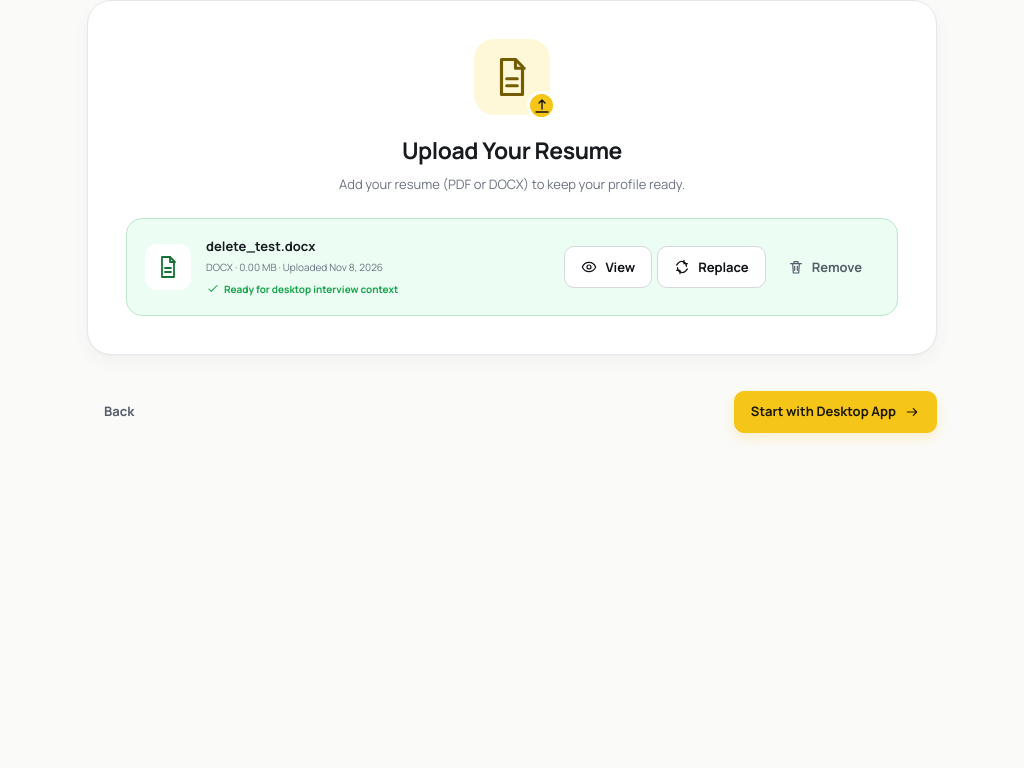
Test case: Unit: Resume Page & Storage Feature › allows deleting/removing resume and reverts 'Start with Desktop App' button to disabled
The width and height of the screenshot is (1024, 768).
Earlier steps of the test are not shown.
Expected: the text "delete_test.docx" is shown, top-left (206, 237), bottom-right (316, 255)
Expected: the button "Start with Desktop App" is enabled, top-left (734, 390), bottom-right (937, 432)
What coordinates should you click on to do the following:
click the button "Remove"
I would click on:
 (825, 267)
Its box is top-left (771, 246), bottom-right (879, 288).
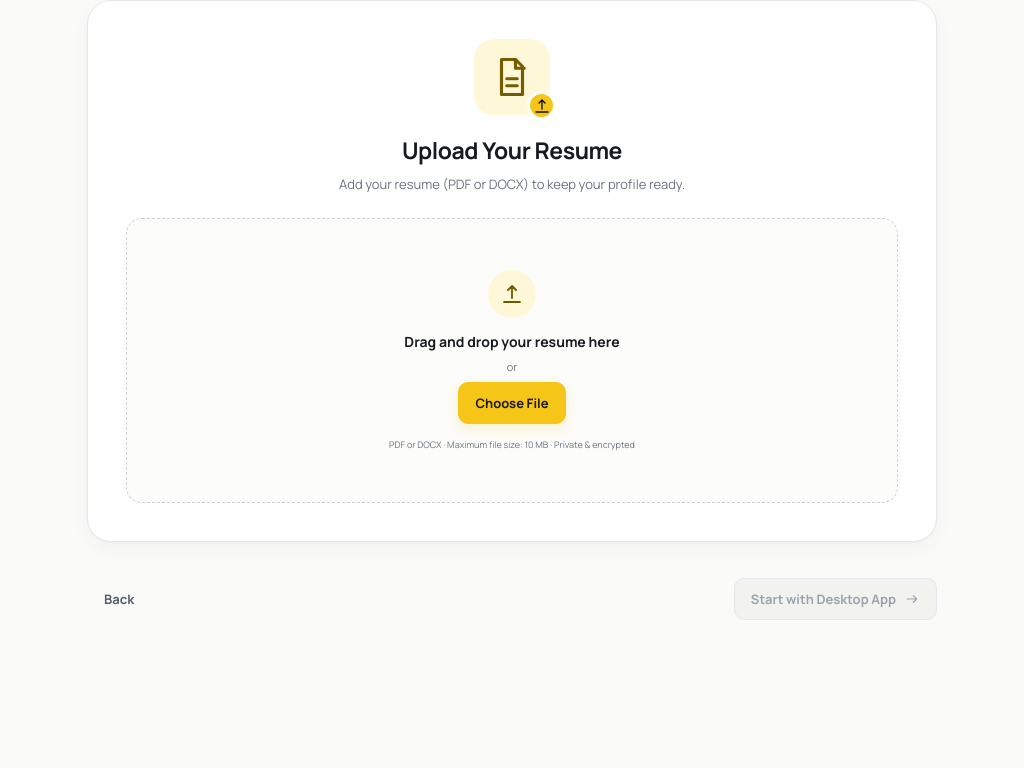
Expected: the heading "Drag and drop your resume here" is shown, top-left (404, 330), bottom-right (620, 352)
Expected: the button "Start with Desktop App" is disabled, top-left (734, 578), bottom-right (937, 620)
